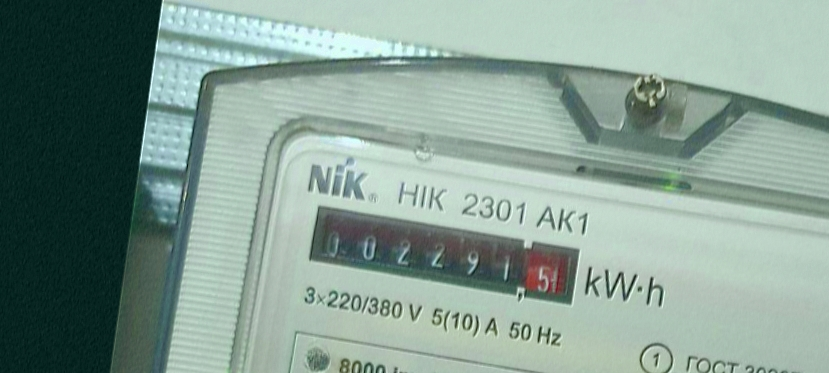0: (320, 226, 341, 257), (357, 231, 377, 262)
1: (494, 250, 513, 285)
2: (392, 236, 412, 267), (427, 239, 445, 270)
5: (532, 262, 552, 294)
9: (460, 246, 480, 278)
screen: (300, 199, 585, 313)
